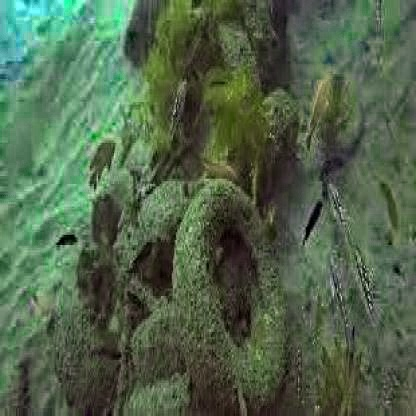tire: (172, 164, 302, 404)
